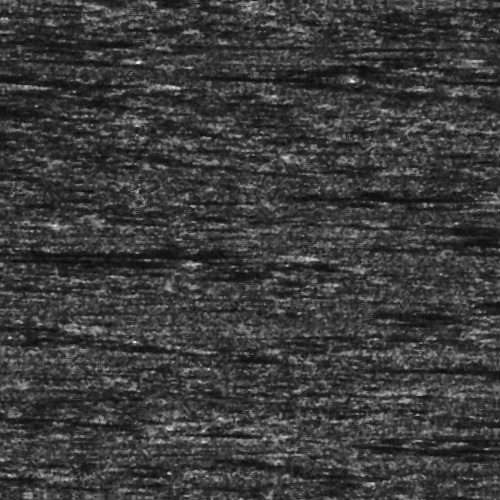object: (320, 71, 383, 82), (0, 82, 57, 93), (358, 60, 411, 69), (168, 256, 199, 265), (472, 188, 500, 197), (434, 51, 475, 56), (276, 248, 287, 257)
shadow: (14, 248, 281, 257), (350, 359, 500, 372), (292, 188, 498, 197), (207, 60, 385, 69), (217, 71, 351, 82), (91, 256, 183, 265), (326, 51, 454, 56), (459, 73, 500, 78), (459, 414, 500, 419)
